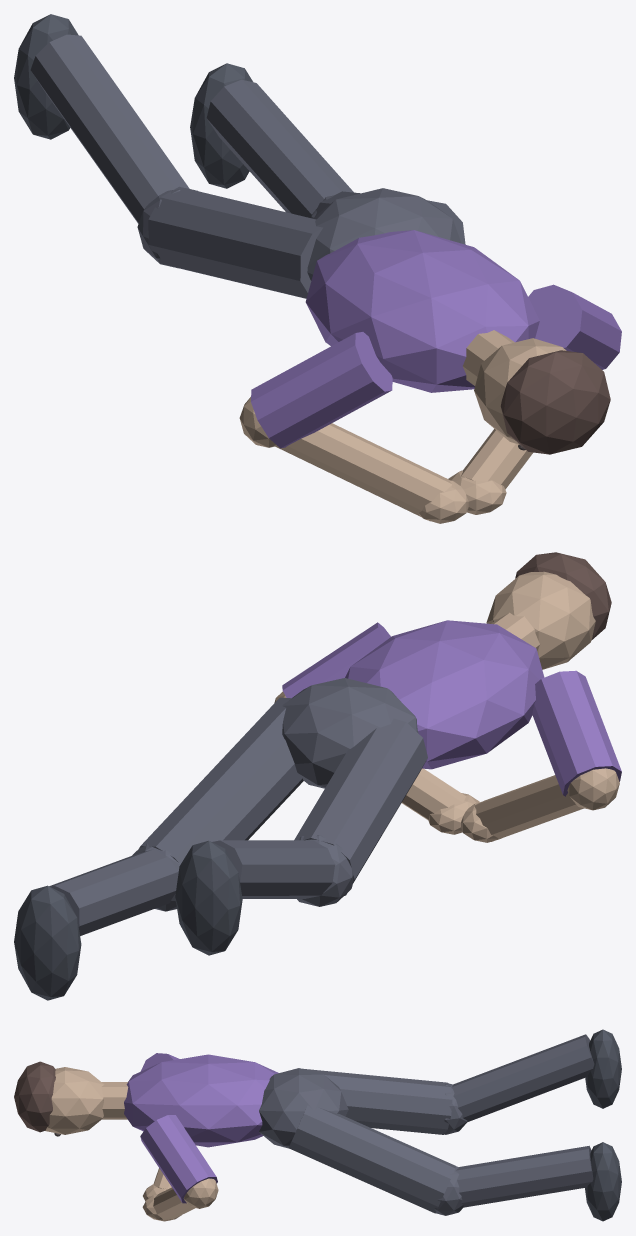
The picture shows the model from 3 angles, top to bottom: view 1: azimuth 30°, elevation 25°; view 2: azimuth 150°, elevation 25°; view 3: azimuth 270°, elevation 25°; orthographic projection. The views are drawn at different scales.
Parts seen in each view (by area): view 1: world; view 2: world; view 3: world.
Part boxes in pixels (x1,y1,x2,y2): world: [14, 14, 621, 523]; world: [14, 552, 621, 1000]; world: [14, 1029, 621, 1221].
Size of the model in its own units: 0.93 by 0.625 by 2.08.
